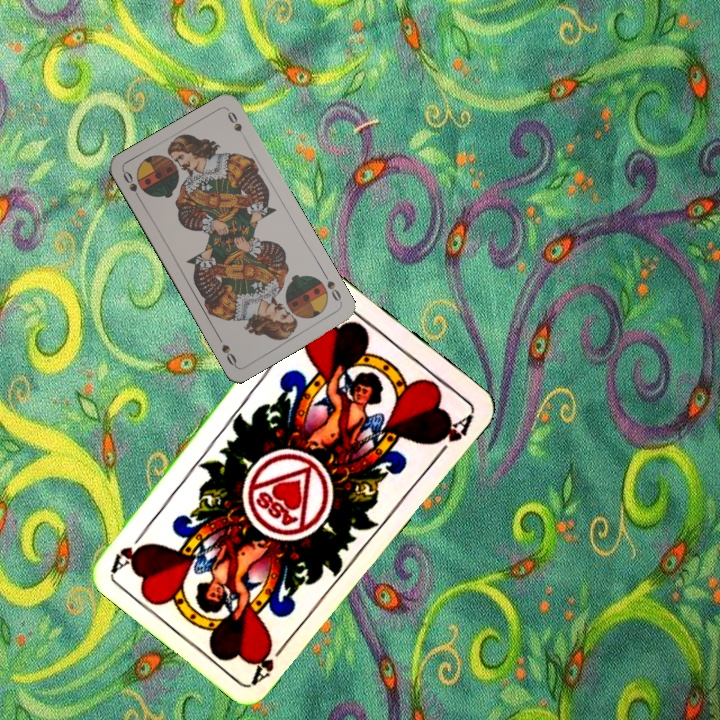HA: (248, 635, 292, 686)
SO: (119, 167, 144, 205), (320, 269, 345, 307)
